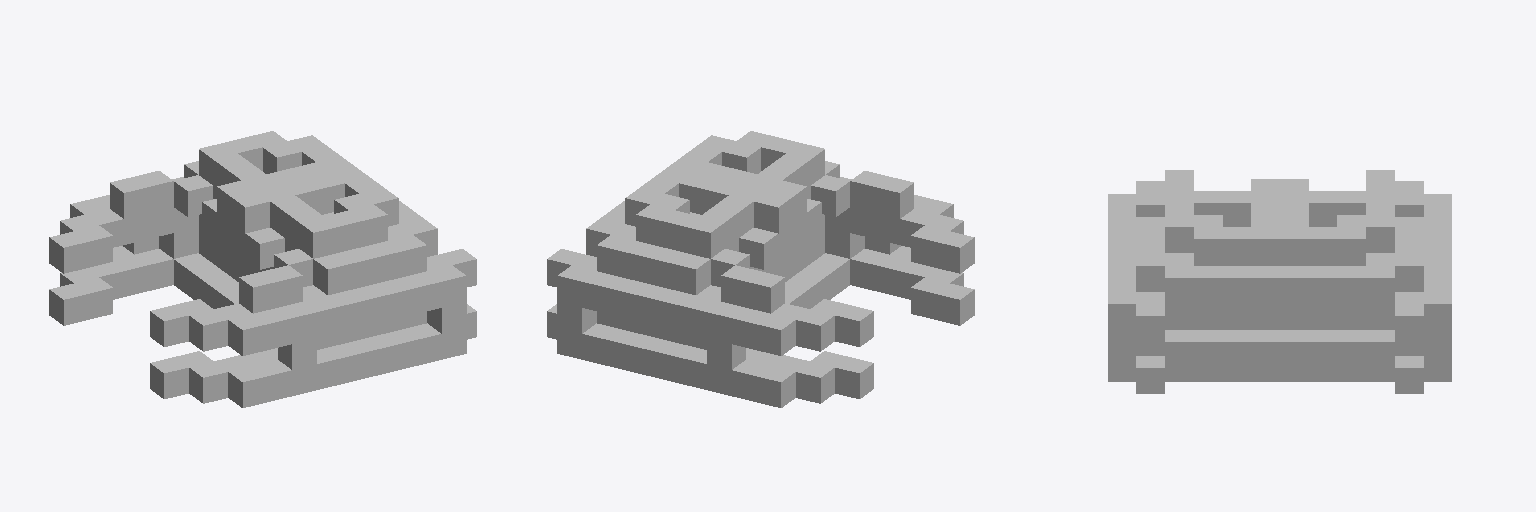
File: Player1.obj
The picture shows the model from 3 angles: view 1: azimuth 30°, elevation 25°; view 2: azimuth 150°, elevation 25°; view 3: azimuth 270°, elevation 25°; orthographic projection.
Bounding box in the file's own units: 12 × 5 × 12.